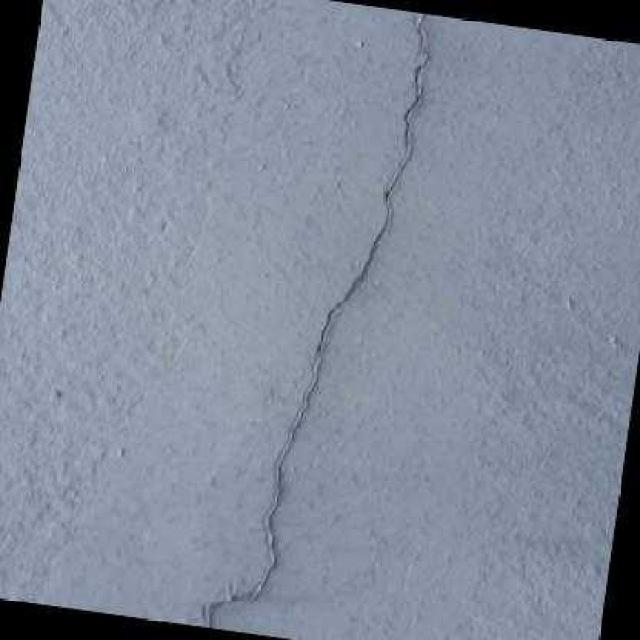D00: (203, 157, 409, 628), (403, 12, 427, 154)
